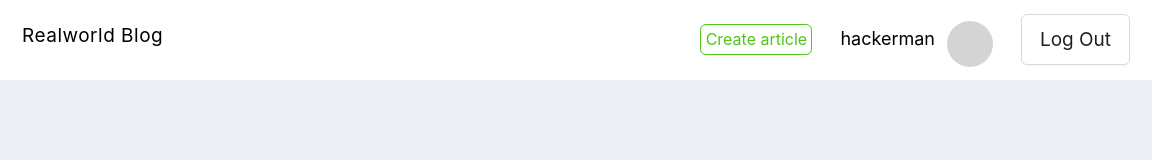
Component: Header › should remove user info and rerender header when logout button is clicked
This screenshot has width=1152, height=160.
Click the button "Log Out": (1076, 39) [1021,14,1130,64]
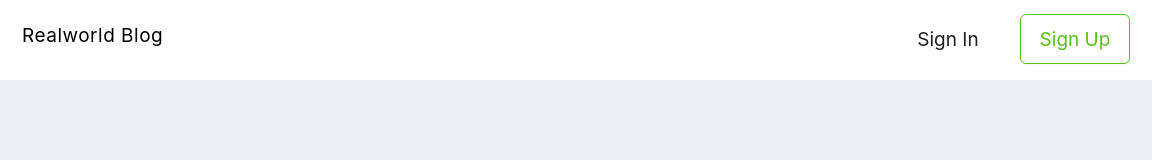
Expected: the text "Sign In" is shown, [917,28,979,50]
Expected: the text "Sign Up" is shown, [1040,28,1110,50]
